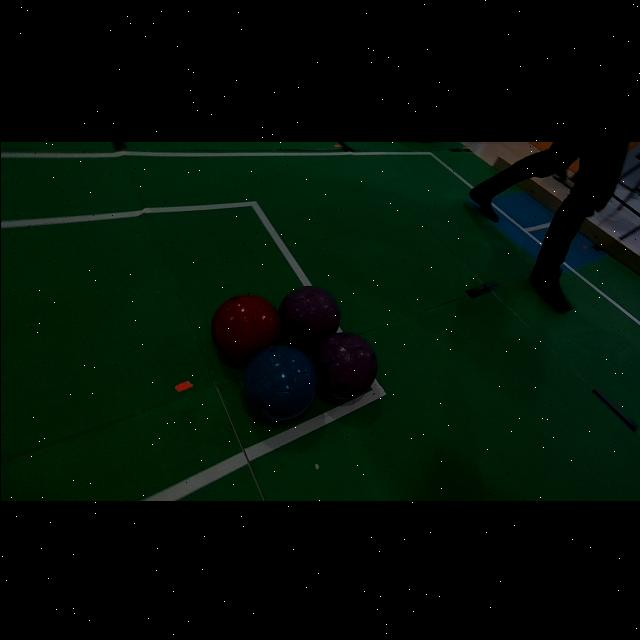B: (241, 344, 317, 419)
P: (311, 331, 376, 399), (278, 284, 340, 347)
R: (210, 292, 282, 360)
